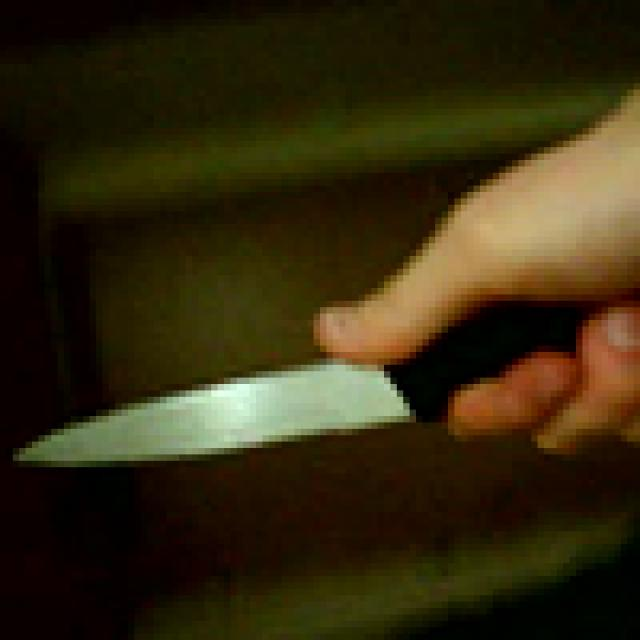Knife: (6, 288, 640, 480)
